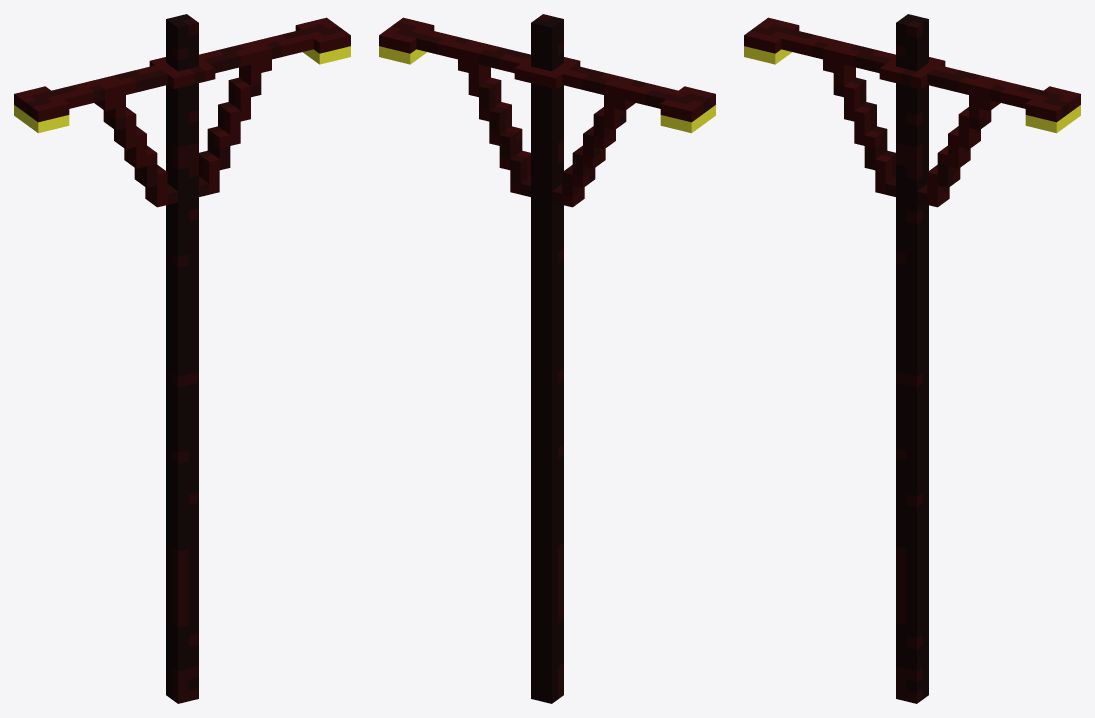
File: Pole2.obj
3 renders of one model, left to right at view 1: azimuth 30°, elevation 25°; view 2: azimuth 150°, elevation 25°; view 3: azimuth 330°, elevation 25°, orthographic.
Bounding box in the file's own units: 3 × 6.2 × 0.4.
Materials: 1 (1 with a texture image).
